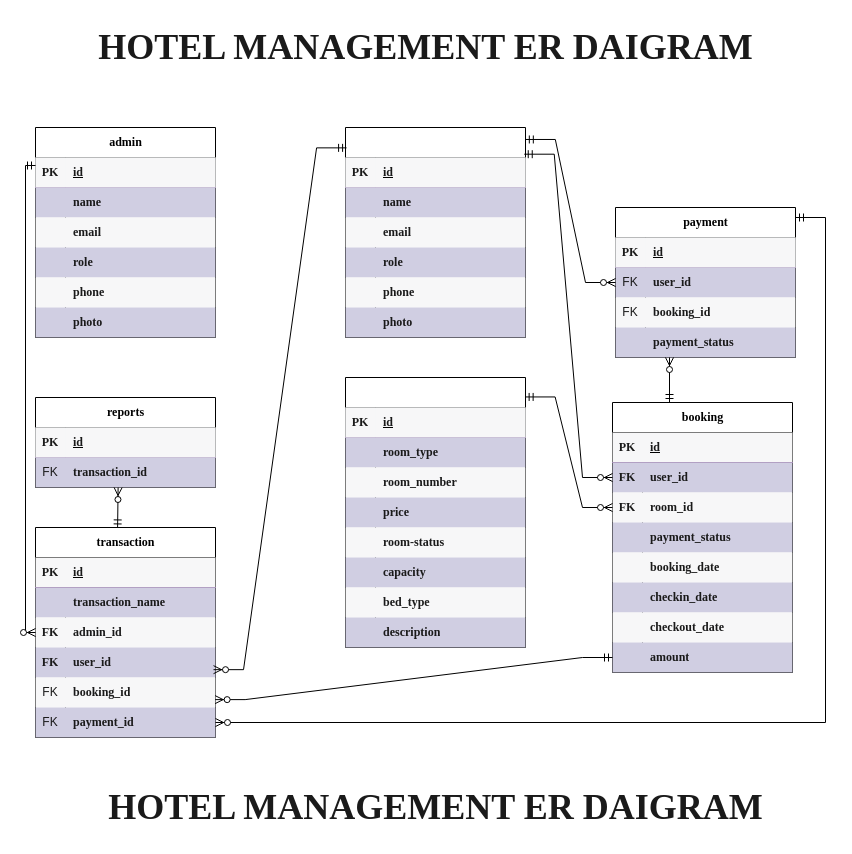
This 852x854 diagram has some shape labels left out. Here are the shapes that lost their labels. From the top down, the box of each, then its label:
(344, 126, 526, 338): user / customer
(344, 376, 526, 648): room information
